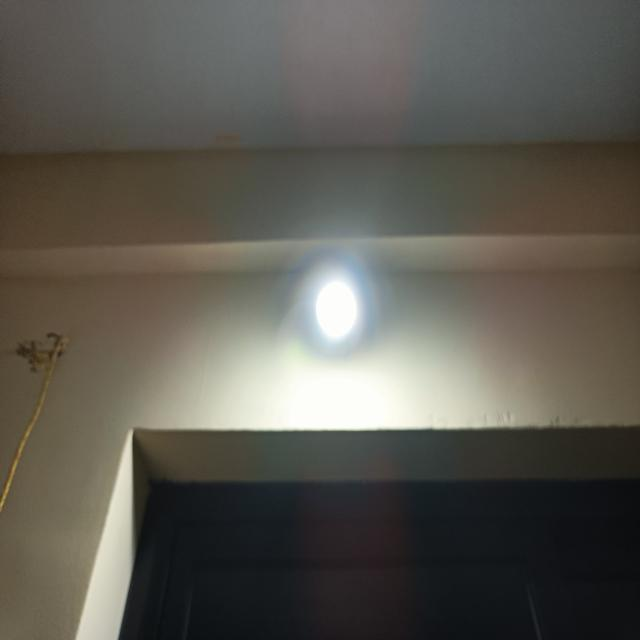bulb_on: (312, 275, 360, 344)
